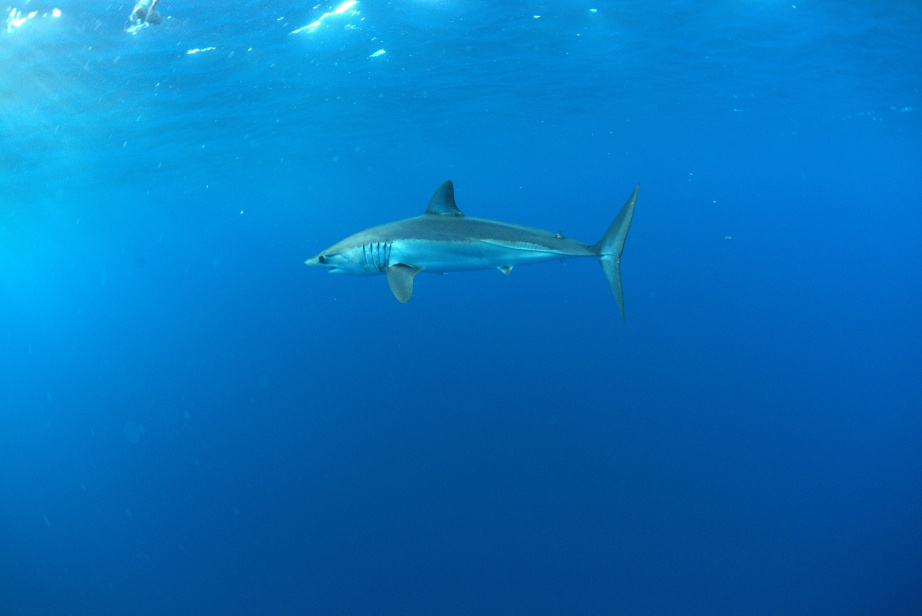Mako: (294, 165, 666, 318)
